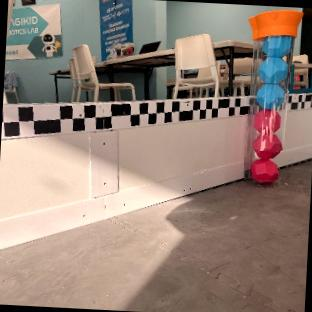Loader: (245, 10, 301, 184)
V5_RED: (252, 107, 281, 157), (251, 158, 277, 182)
